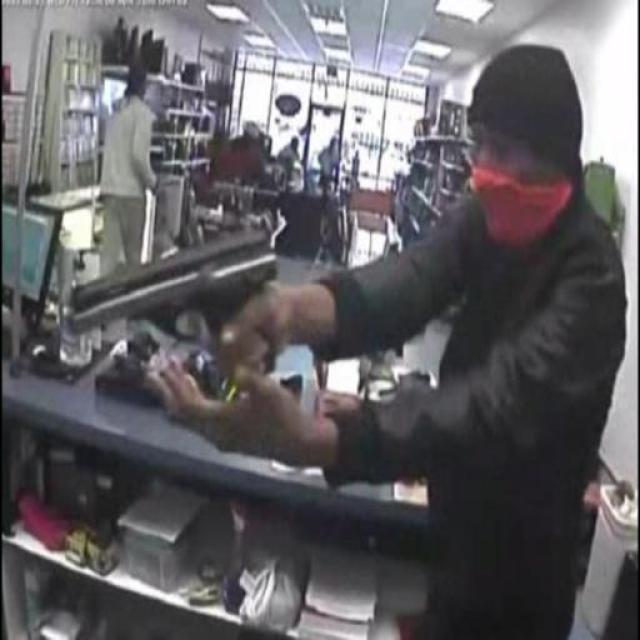pistol: (67, 224, 276, 388)
